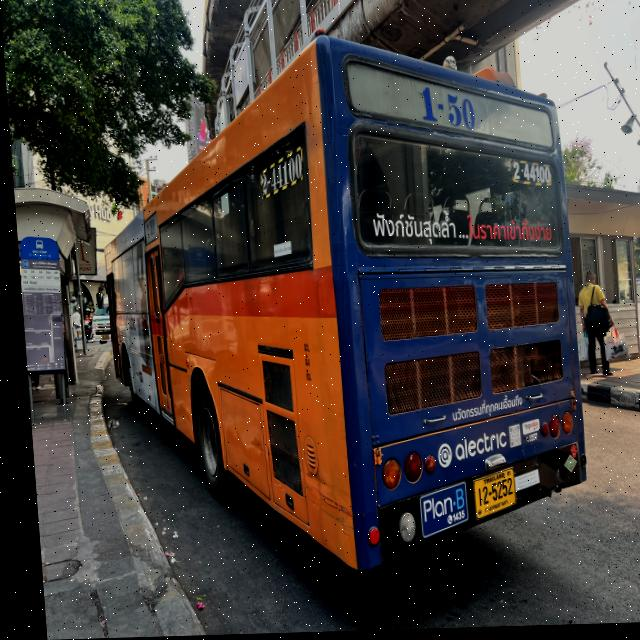BMTA-bus: (90, 33, 587, 584)
Bus-Line-Number: (406, 78, 487, 142)
